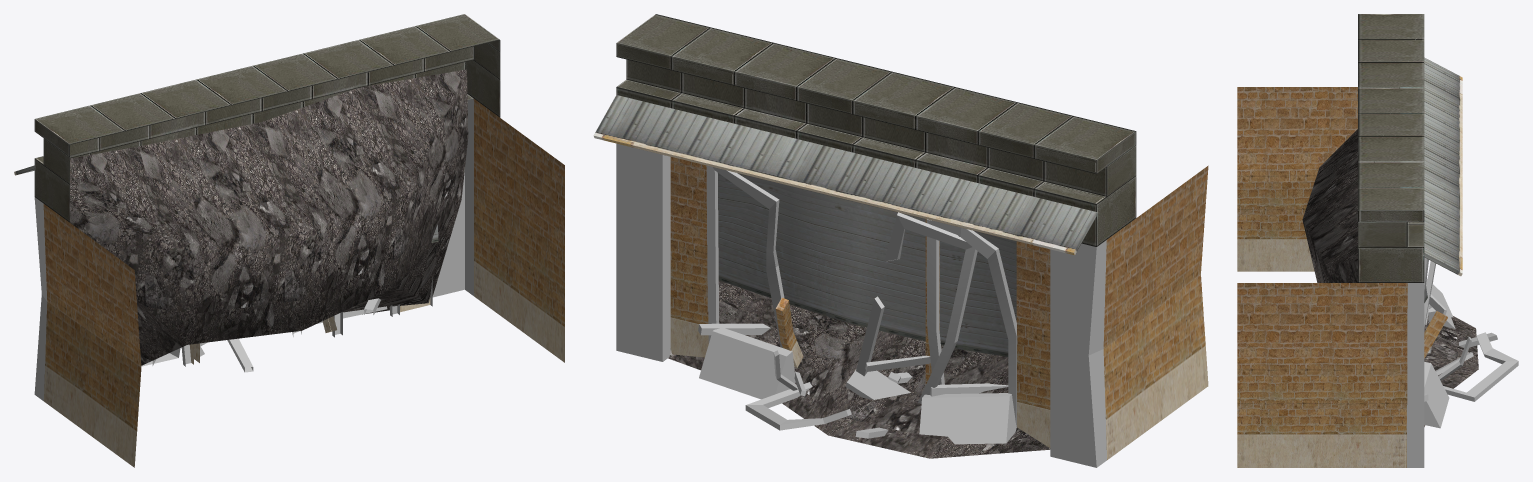
The model's file is Store_front_30.fbx.
3 renders of one model, left to right at view 1: azimuth 30°, elevation 25°; view 2: azimuth 150°, elevation 25°; view 3: azimuth 270°, elevation 25°, orthographic. The views are drawn at different scales.
Visible parts, largest first — view 1: Store_front_30; view 2: Store_front_30; view 3: Store_front_30.
Boxes of the visible parts, x1=… form: Store_front_30: x1=14, y1=14, x2=564, y2=467; Store_front_30: x1=593, y1=14, x2=1208, y2=467; Store_front_30: x1=1237, y1=14, x2=1518, y2=467.
Size of the model in its own units: 700 by 432 by 424.
